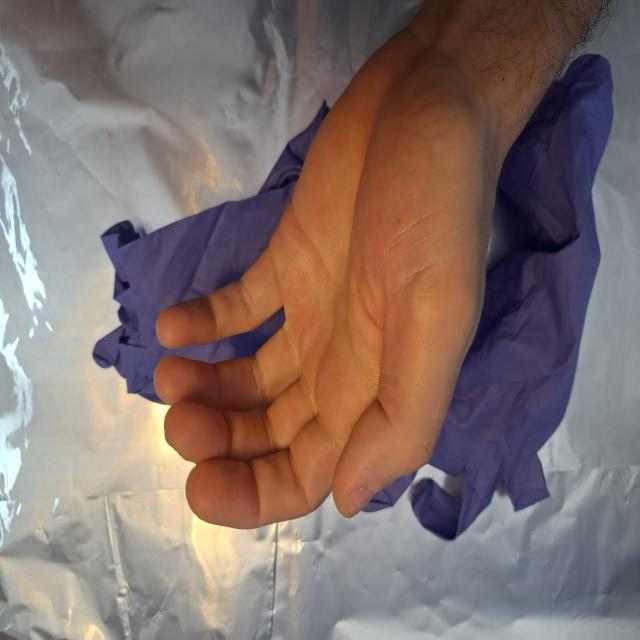glove_off: (152, 4, 532, 532)
